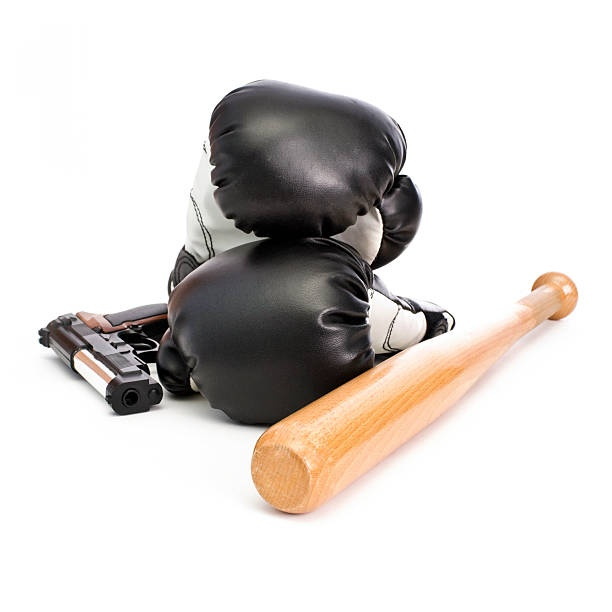bita: (249, 272, 578, 517)
